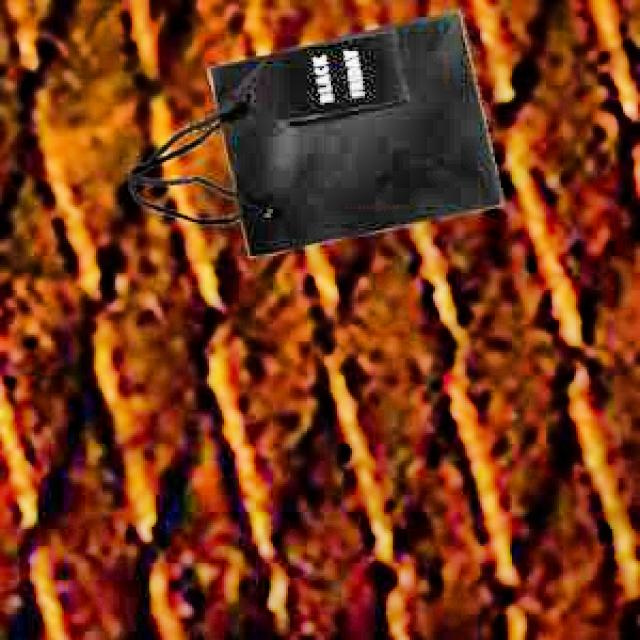Paper-bag: (135, 4, 515, 270)
